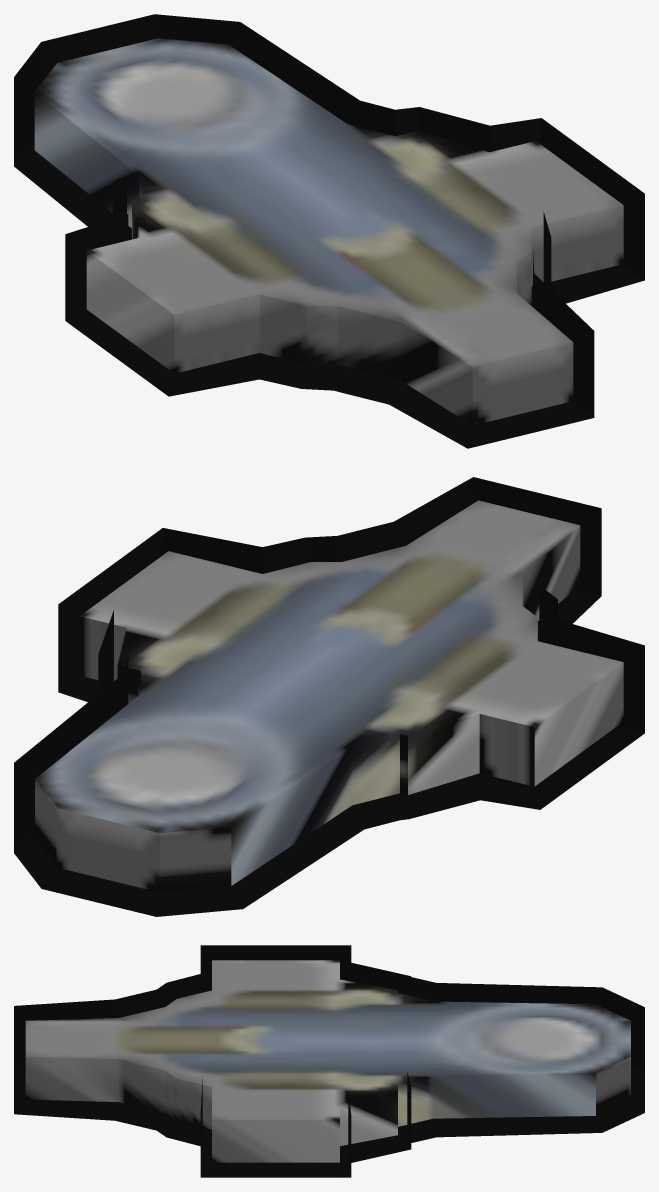
The model's file is Building_MoisturePump_Things_Building_Misc_MoisturePump.glb.
3 renders of one model, top to bottom at view 1: azimuth 30°, elevation 25°; view 2: azimuth 150°, elevation 25°; view 3: azimuth 270°, elevation 25°, orthographic. The views are drawn at different scales.
Parts seen in each view (by area): view 1: Body, Outline; view 2: Body, Outline; view 3: Body, Outline.
Boxes of the visible parts, bbox=[...] form: Body: bbox=[34, 38, 623, 425]; Outline: bbox=[14, 14, 644, 448]; Body: bbox=[35, 500, 623, 892]; Outline: bbox=[14, 477, 644, 916]; Body: bbox=[25, 960, 630, 1162]; Outline: bbox=[14, 945, 644, 1177].
Bounding box in the file's own units: 0.9604 × 0.193 × 1.51.
Materials: 2 (1 with a texture image).
